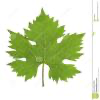grape leaf: (6, 6, 89, 88)
